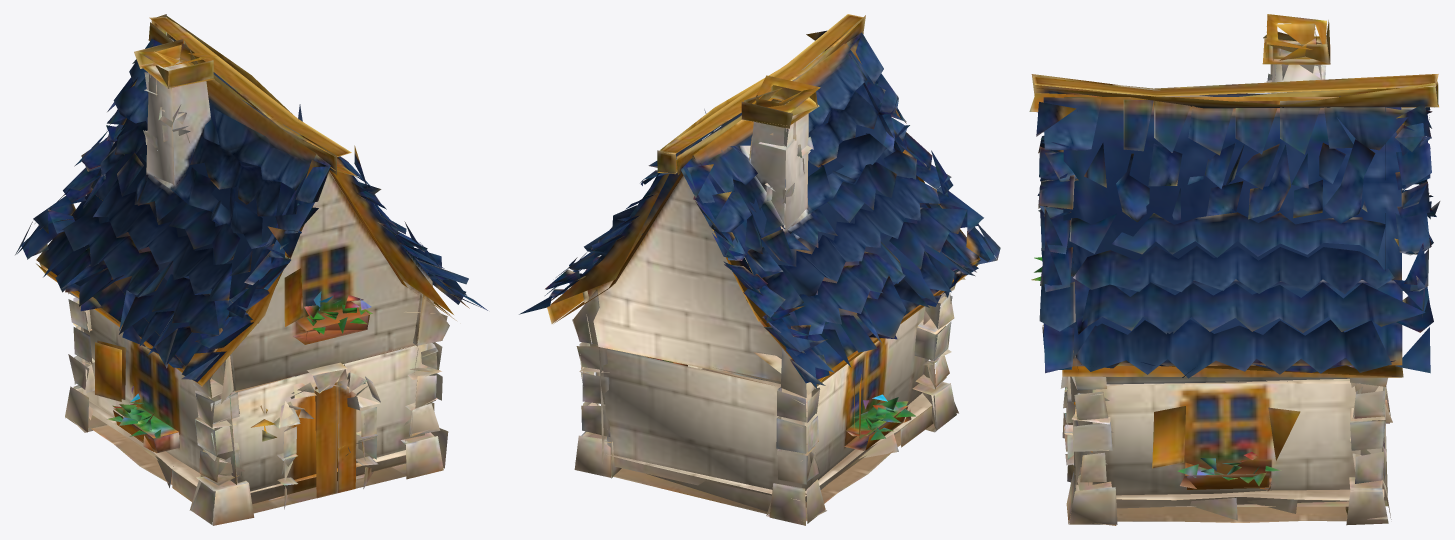
The model's file is o-maison-semis.glb.
3 renders of one model, left to right at view 1: azimuth 30°, elevation 25°; view 2: azimuth 150°, elevation 25°; view 3: azimuth 270°, elevation 25°, orthographic. The views are drawn at different scales.
Visible parts, largest first — view 1: o-maison-semis; view 2: o-maison-semis; view 3: o-maison-semis.
Part boxes in pixels (bbox=[...]): o-maison-semis: bbox=[15, 14, 487, 525]; o-maison-semis: bbox=[519, 14, 1000, 525]; o-maison-semis: bbox=[1029, 14, 1440, 525].
Size of the model in its own units: 0.8147 by 0.9611 by 0.8667.
Materials: 1 (1 with a texture image).
